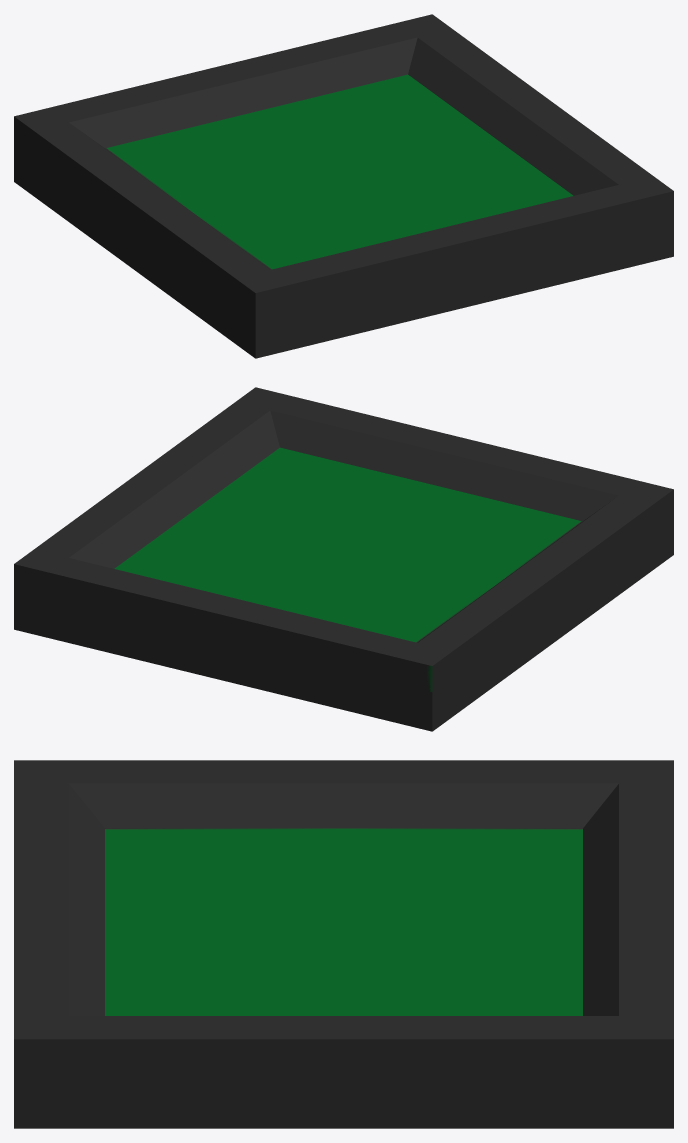
The model's file is Board_2.fbx.
3 renders of one model, top to bottom at view 1: azimuth 30°, elevation 25°; view 2: azimuth 150°, elevation 25°; view 3: azimuth 270°, elevation 25°, orthographic. The views are drawn at different scales.
Parts seen in each view (by area): view 1: Cube; view 2: Cube; view 3: Cube.
Boxes of the visible parts, x1=… form: Cube: x1=14, y1=14, x2=673, y2=358; Cube: x1=14, y1=387, x2=673, y2=731; Cube: x1=14, y1=760, x2=673, y2=1128.
Size of the model in its own units: 600 by 89.84 by 600.
Materials: 1 (1 with a texture image).
